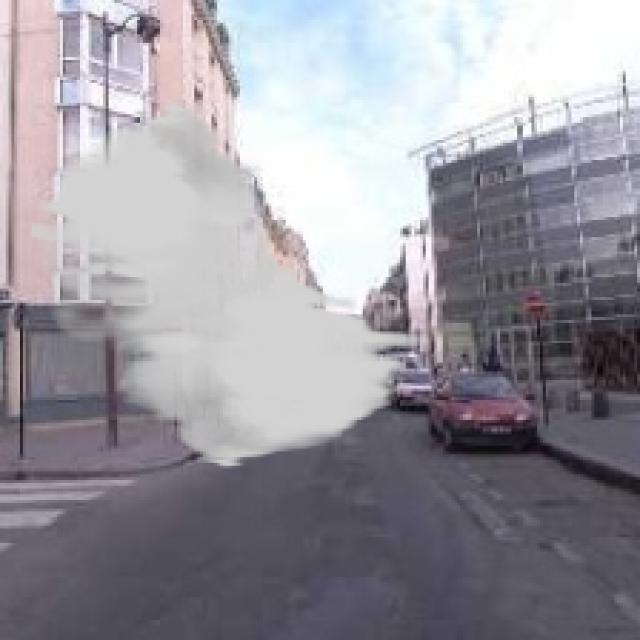Smoke: (28, 100, 420, 469)
